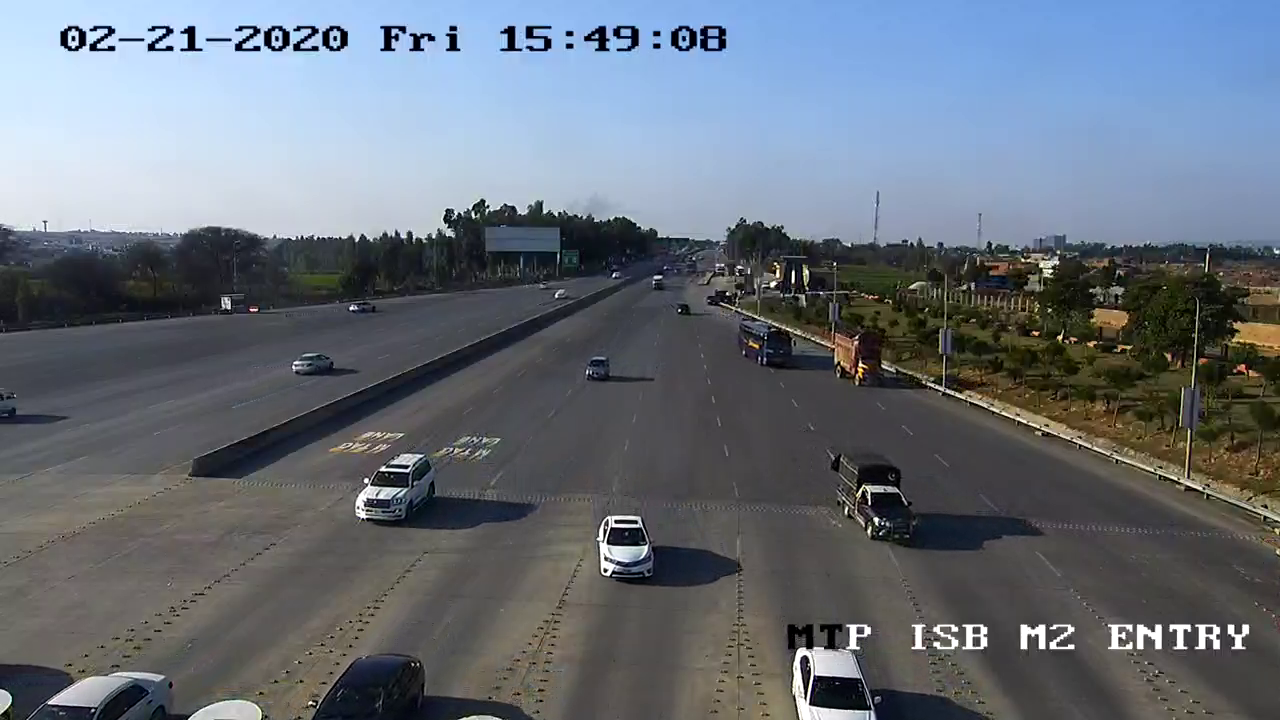f1: (345, 438, 442, 537), (585, 508, 662, 591)
f2: (825, 445, 926, 549)
